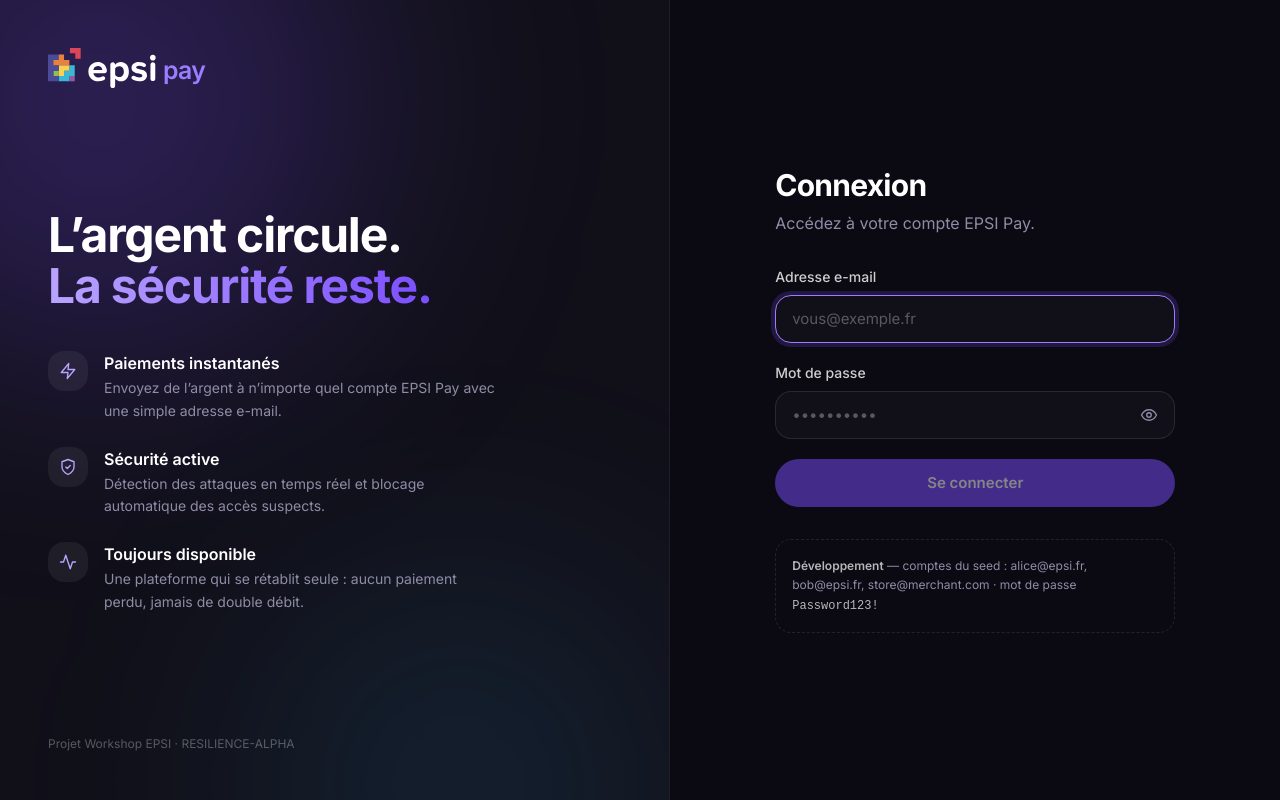
Écrans › Connexion › doit afficher un compte verrouillé
This screenshot has width=1280, height=800.
Type "alice@epsi.fr" into the field labelled "Adresse e-mail" at (975, 319), box [775,295,1175,343]
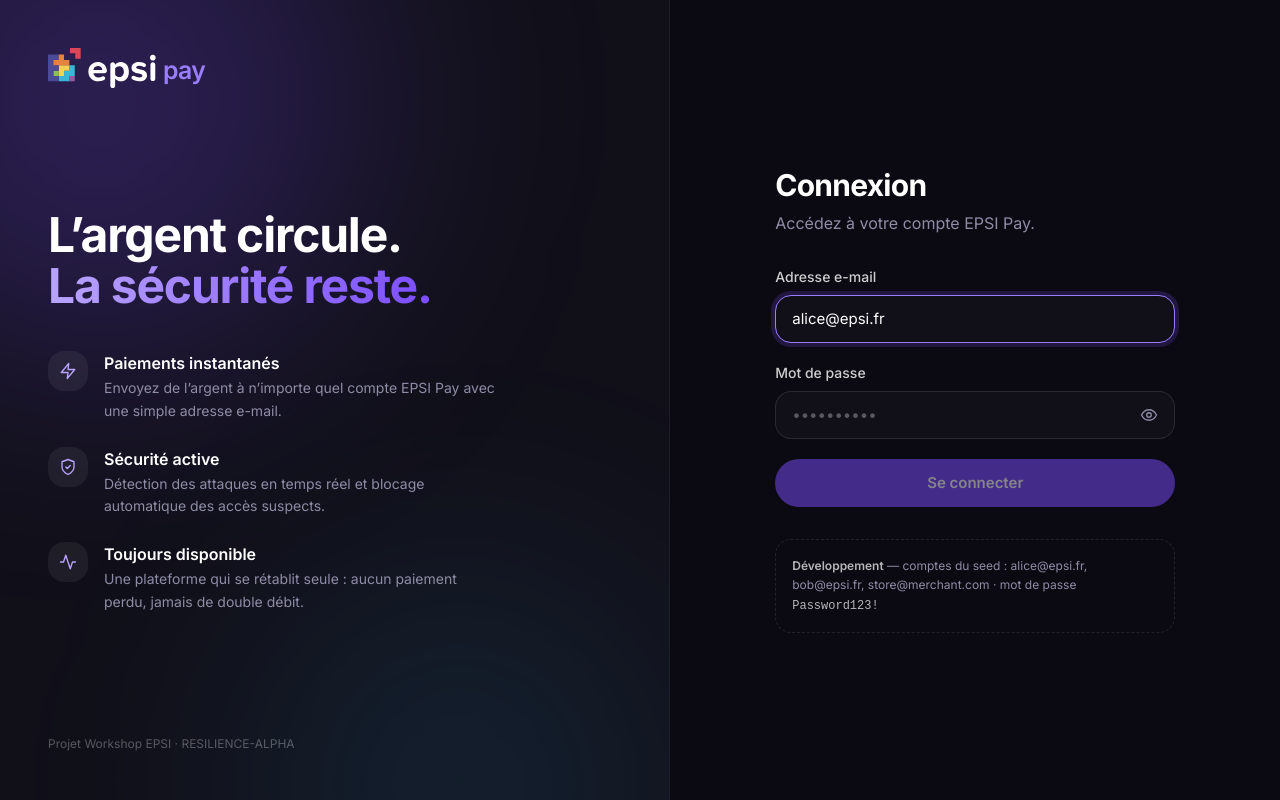
Type "mauvais" into the password field labelled "Mot de passe" at (975, 415), box [775,391,1175,439]
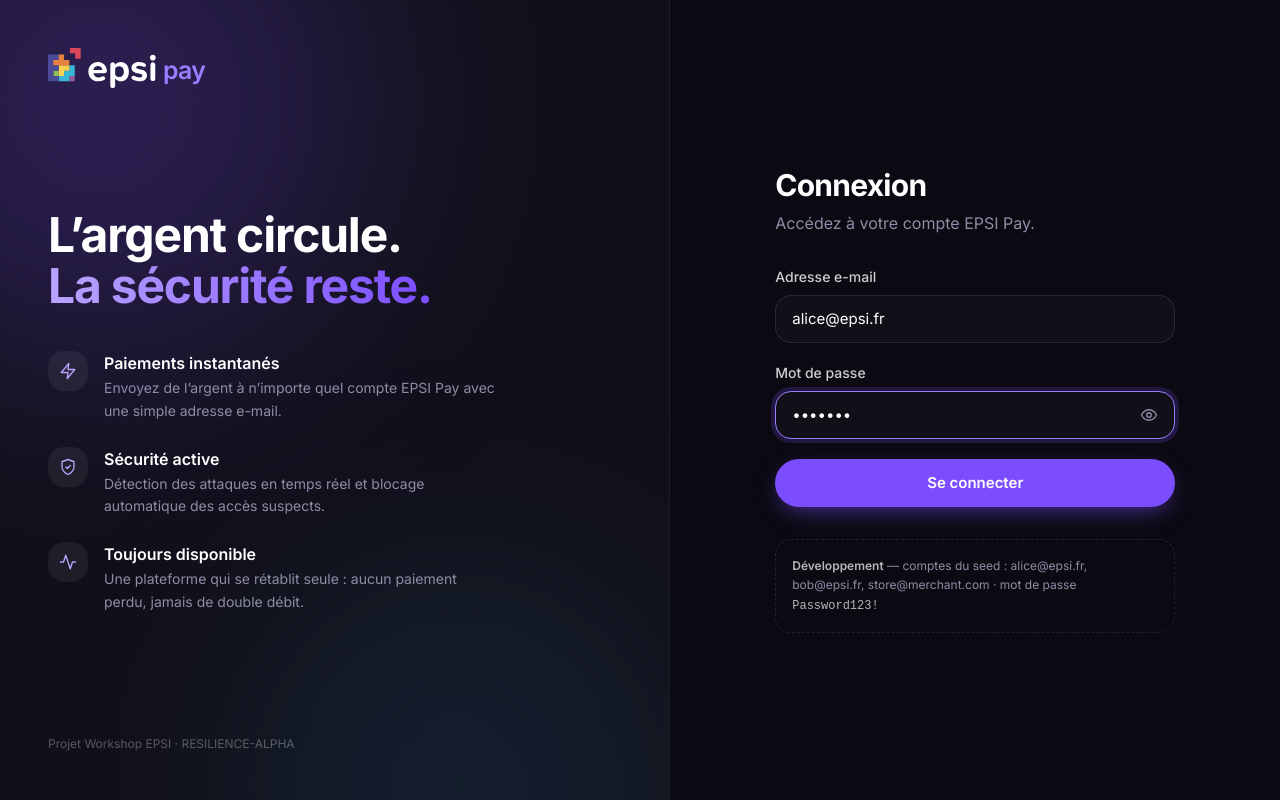
Click the button "Se connecter" at (975, 483), box [775,459,1175,507]
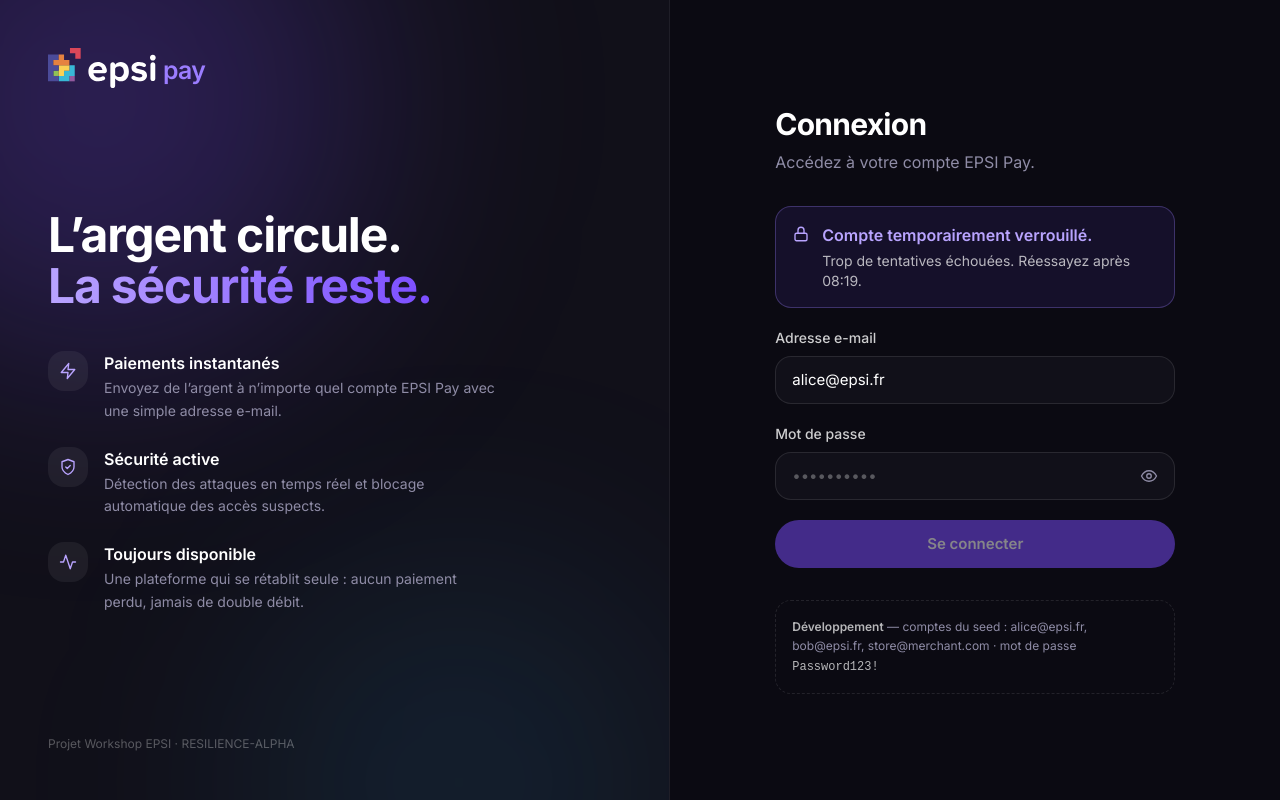
Expected: the message shows "Compte temporairement verrouillé.", [822,225,1092,245]
